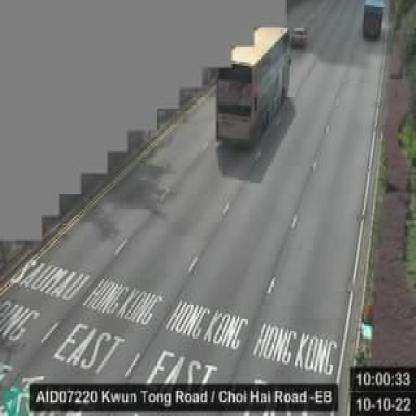Bus: (214, 26, 289, 145)
Car: (292, 25, 310, 48)
Truck: (363, 0, 387, 41)
